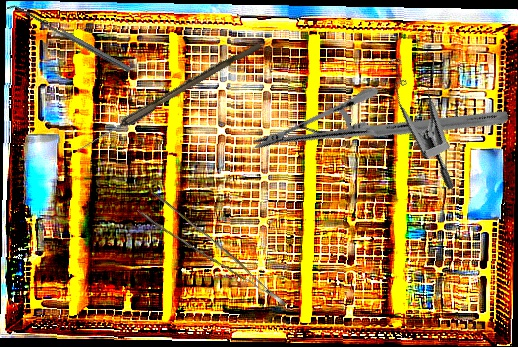Needle Holder: (251, 11, 511, 249)
Spatula Surgical: (5, 0, 132, 78)
Speculum: (365, 38, 504, 192)
Surgical Spoon: (74, 38, 262, 157)
Tissue Forceps: (136, 185, 286, 328)
